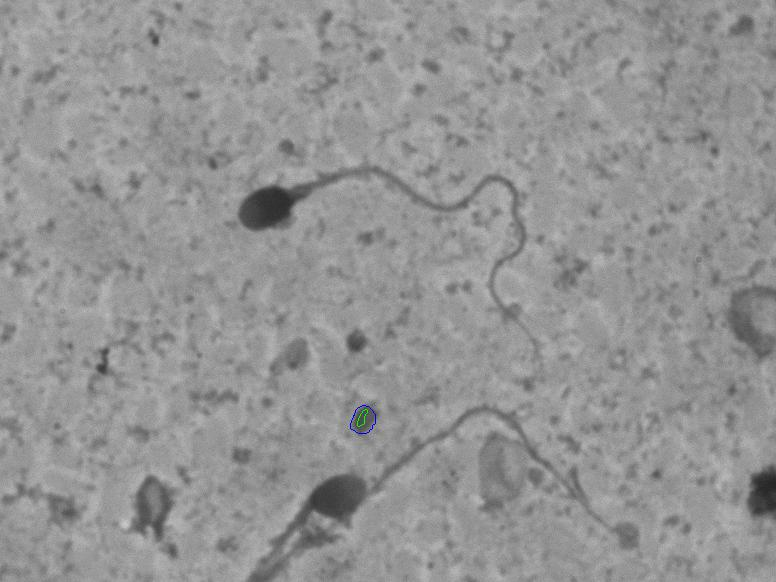Normal: (204, 138, 590, 410)
